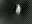person: (16, 5, 23, 17)
